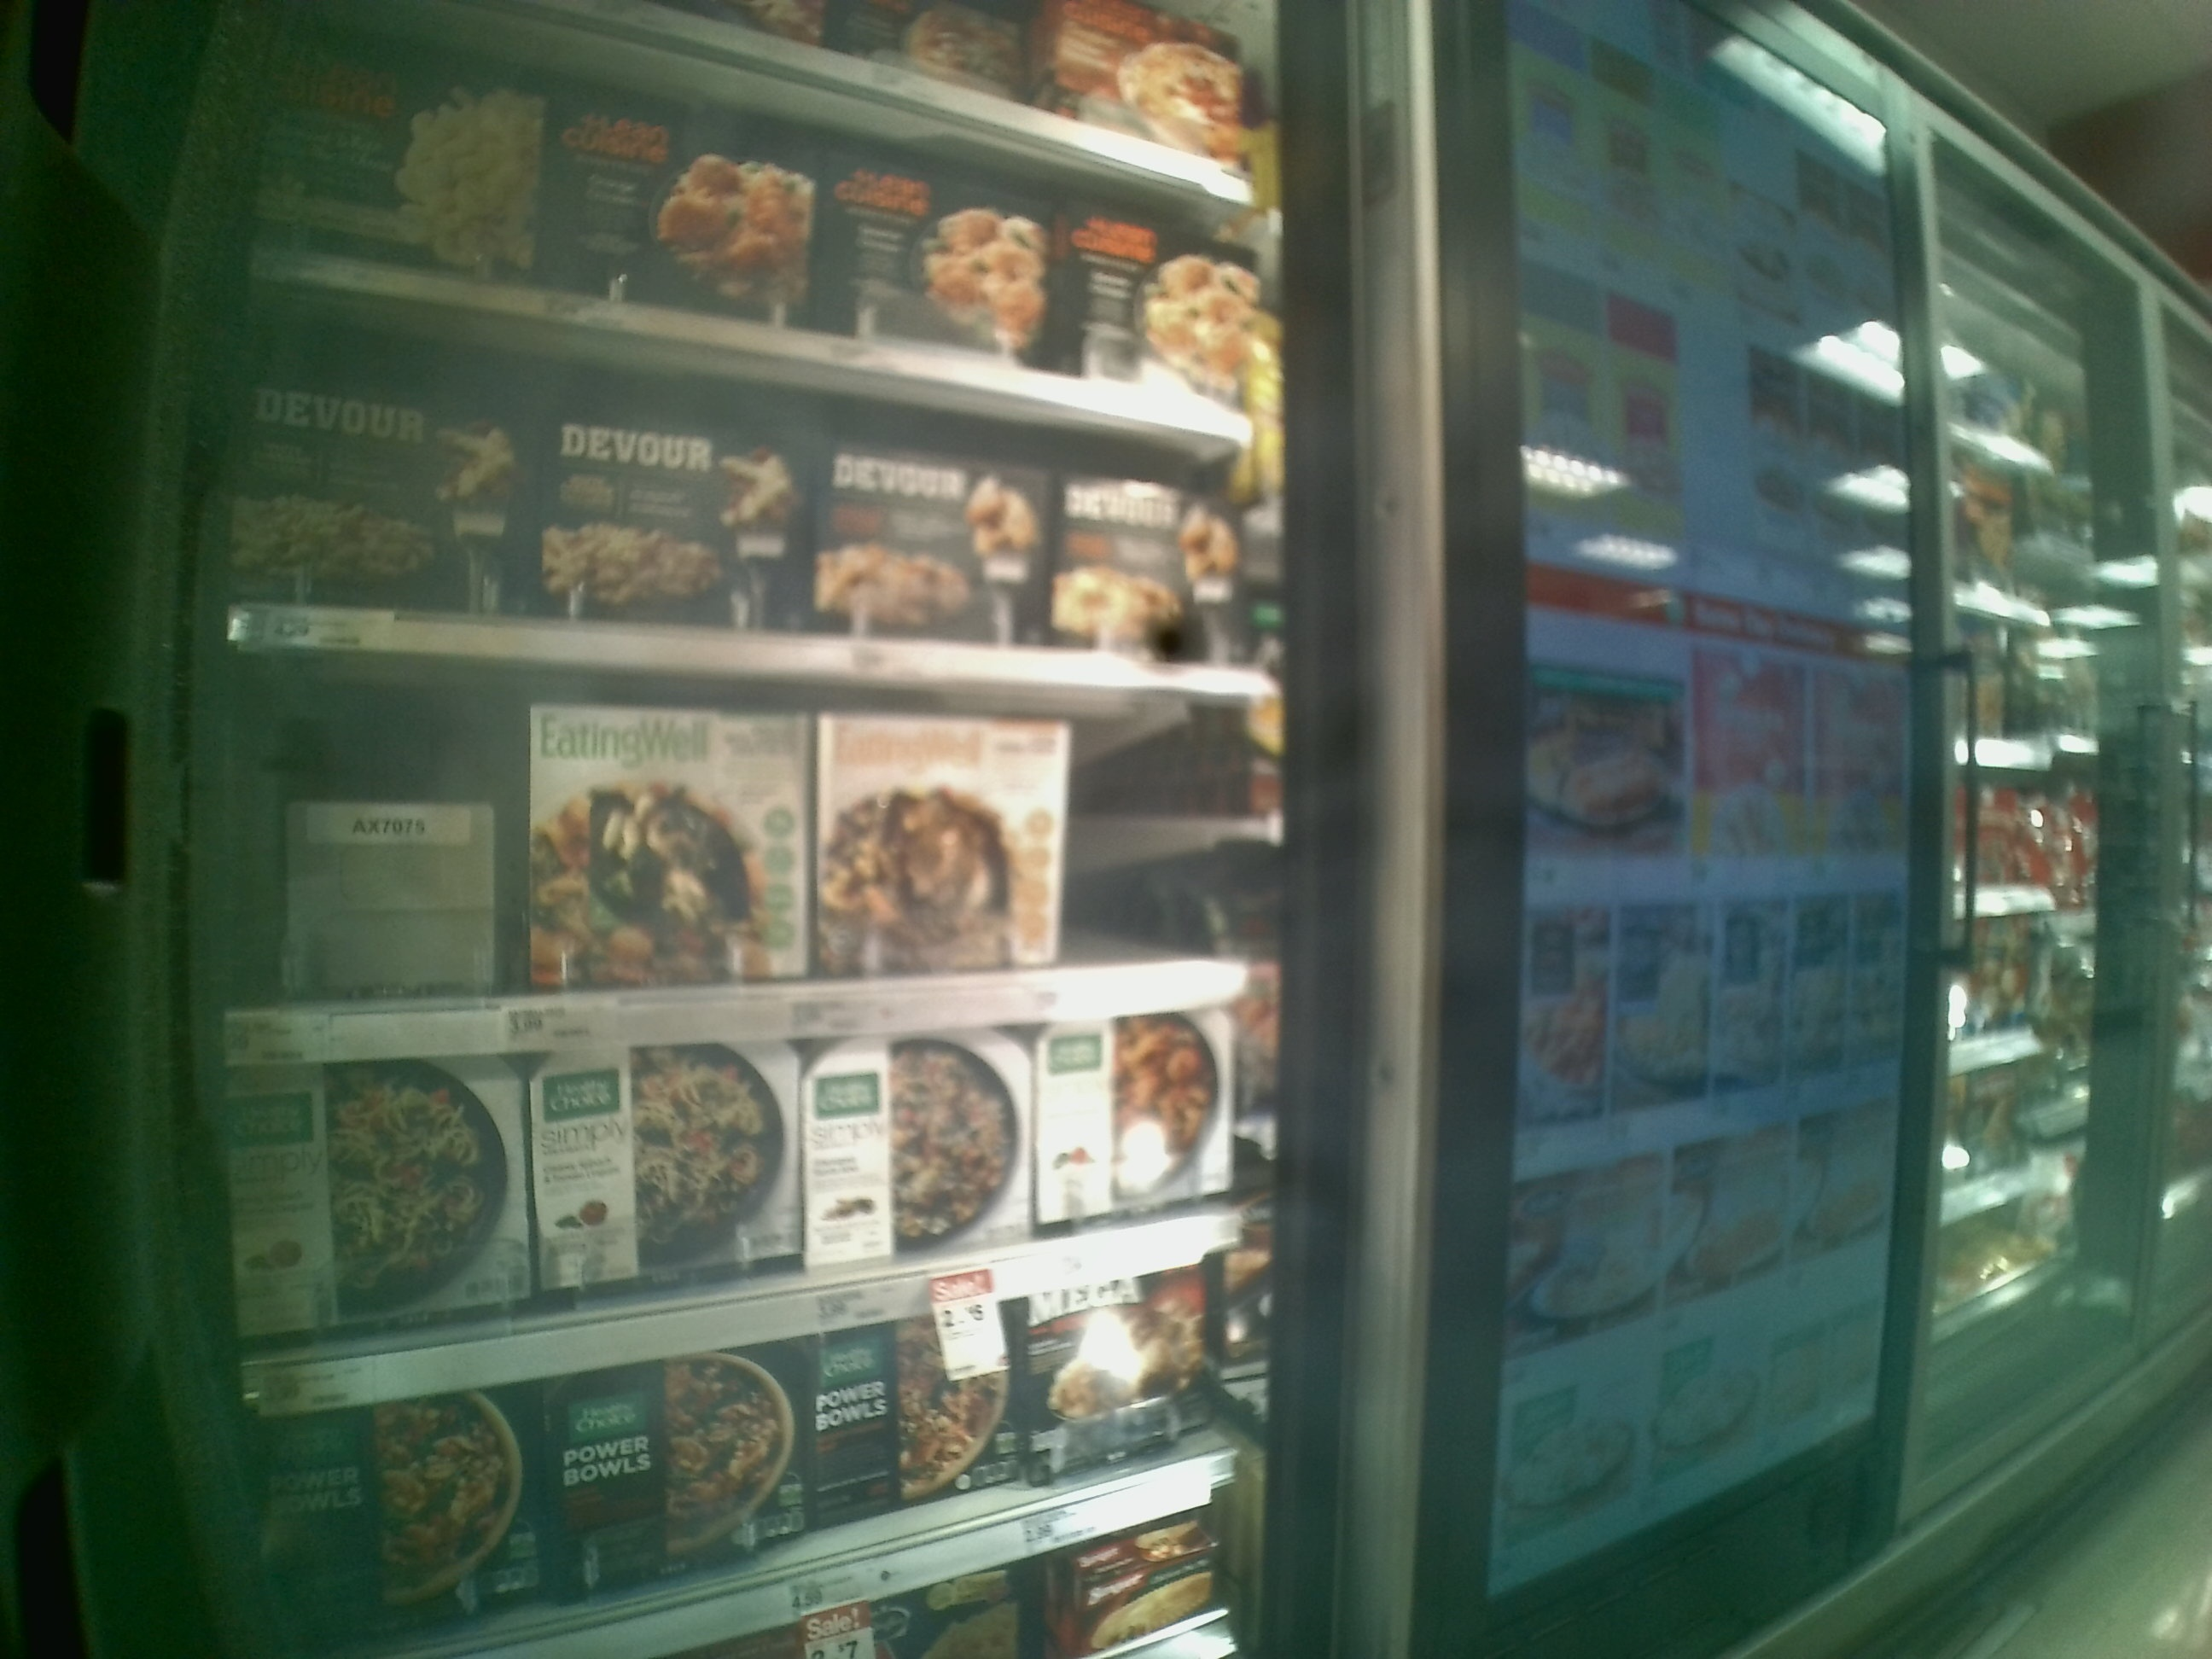pizza: (226, 326, 536, 612), (526, 702, 822, 983), (221, 1068, 531, 1326), (258, 1385, 547, 1647), (514, 1033, 808, 1288), (808, 694, 1075, 971), (533, 396, 822, 636), (270, 37, 542, 284), (545, 85, 819, 326), (801, 1028, 1035, 1260), (561, 1354, 796, 1572), (824, 134, 1043, 359), (1029, 1009, 1251, 1222), (791, 1316, 1029, 1513), (827, 430, 1043, 641), (1019, 1286, 1223, 1457), (1075, 207, 1259, 396), (1054, 465, 1244, 643), (1035, 10, 1244, 153)
